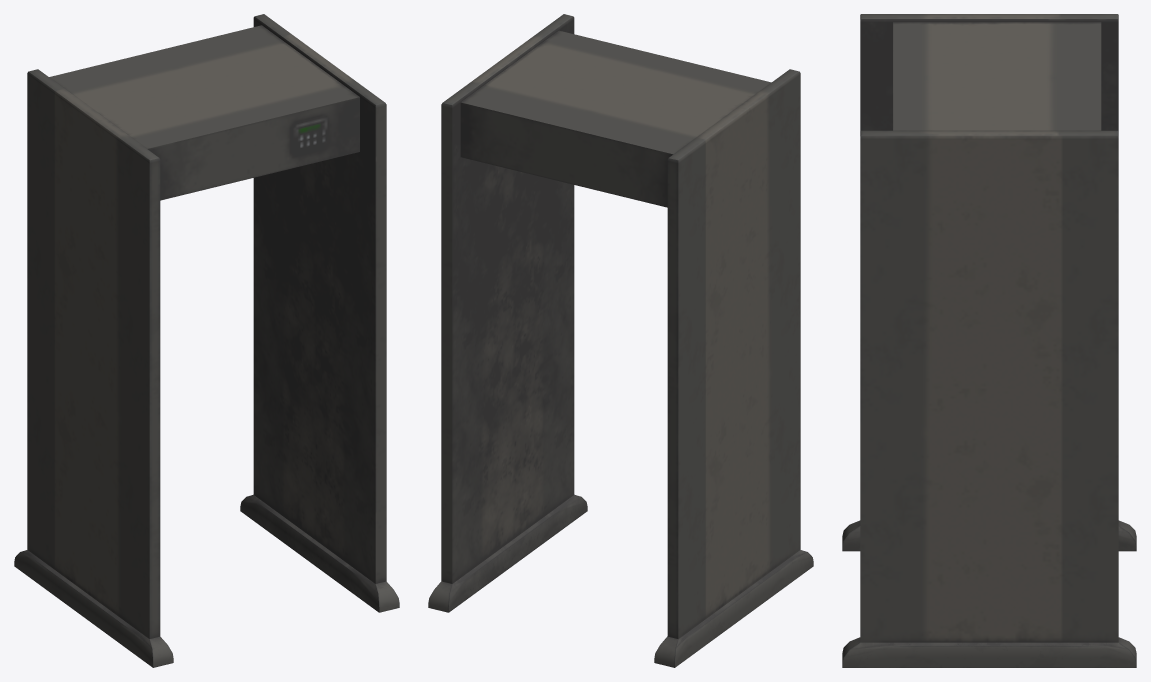
Rendered from Metal Detector.fbx.
3 renders of one model, left to right at view 1: azimuth 30°, elevation 25°; view 2: azimuth 150°, elevation 25°; view 3: azimuth 270°, elevation 25°, orthographic. The views are drawn at different scales.
Visible parts, largest first — view 1: Cube; view 2: Cube; view 3: Cube.
Boxes of the visible parts, x1,y1,x2,y2 form: Cube: [14, 14, 399, 667]; Cube: [428, 14, 813, 667]; Cube: [842, 14, 1136, 667].
Size of the model in its own units: 133 by 258 by 130.
